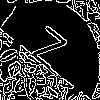Z: (25, 25, 68, 80)
